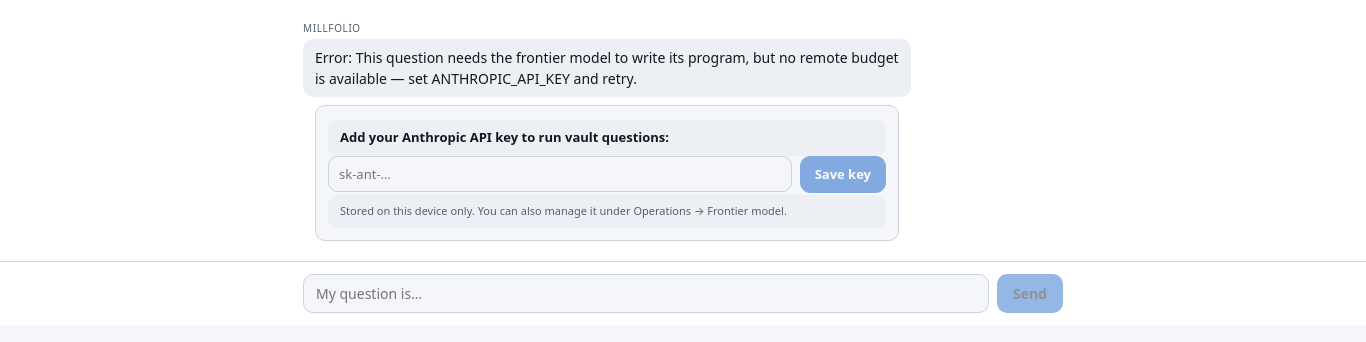
Test: ChatPanel — missing-key affordance › shows the key field on the no-key error and POSTs the pasted key
Expected: the text "Add your Anthropic API key to run vault questions:" is shown, [328, 120, 886, 156]
In the password field with placeholder "sk-ant-…": (560, 174) [328, 156, 792, 192], type "sk-ant-api03-testkey123"
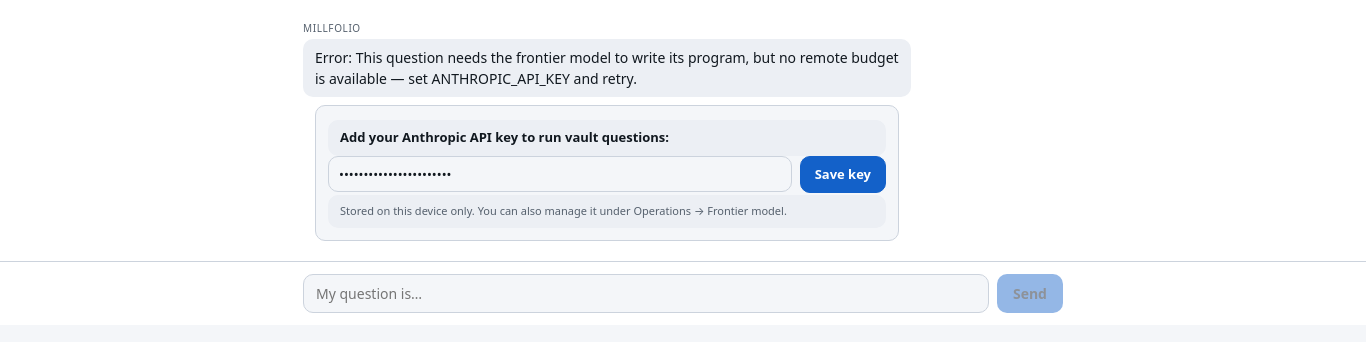
Click the button "Save key": (843, 174) [800, 156, 886, 193]
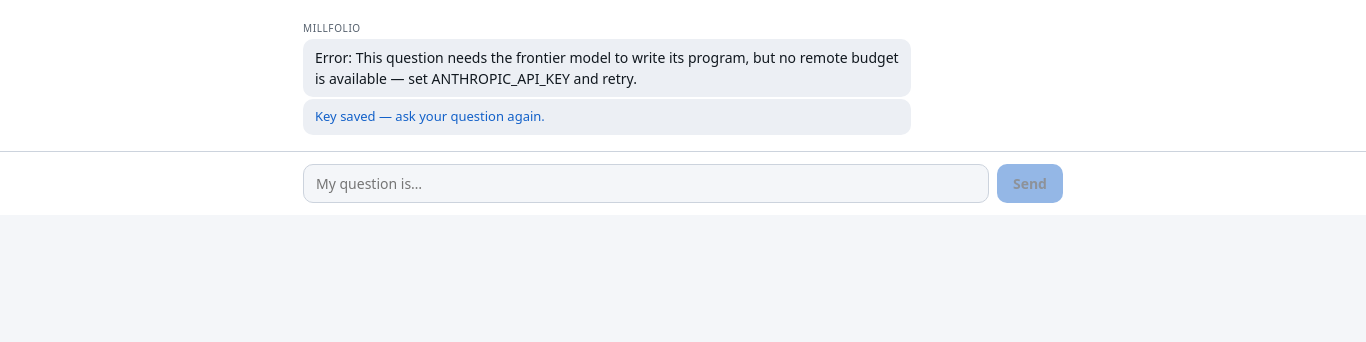
Result: the text "Key saved — ask your question again." is shown at [303, 99, 911, 134]
